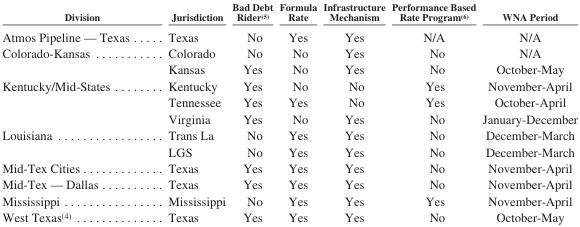table: (1, 0, 577, 223)
table column: (1, 0, 148, 223), (478, 0, 577, 223), (387, 0, 478, 223), (148, 0, 228, 223), (319, 0, 387, 223), (228, 0, 275, 223), (275, 0, 319, 223)
table column header: (1, 0, 577, 25)
table row: (1, 0, 577, 25), (1, 25, 577, 44), (1, 60, 577, 77), (1, 93, 577, 110), (1, 126, 577, 143), (1, 175, 577, 192), (1, 44, 577, 60), (1, 77, 577, 93), (1, 110, 577, 126), (1, 143, 577, 159), (1, 159, 577, 175), (1, 192, 577, 208), (1, 208, 577, 223)
table spanning cell: (1, 77, 148, 126), (1, 44, 148, 77), (1, 126, 148, 159)
